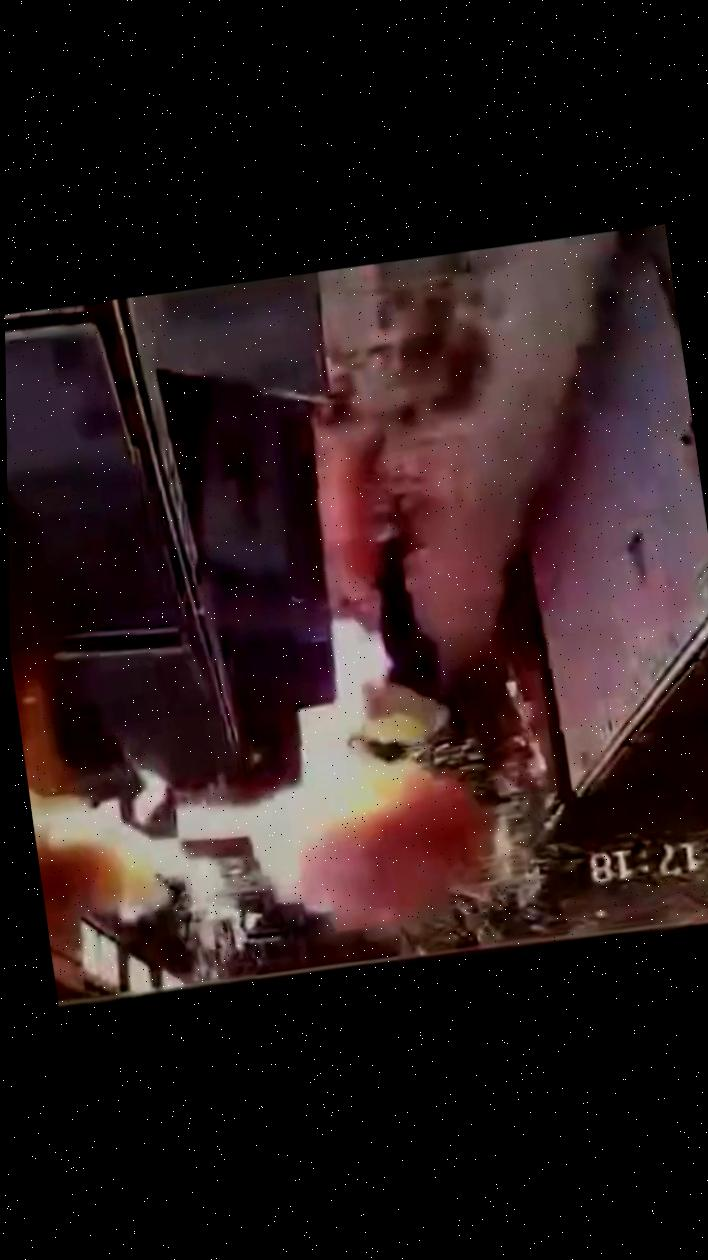fire: (22, 327, 650, 994)
